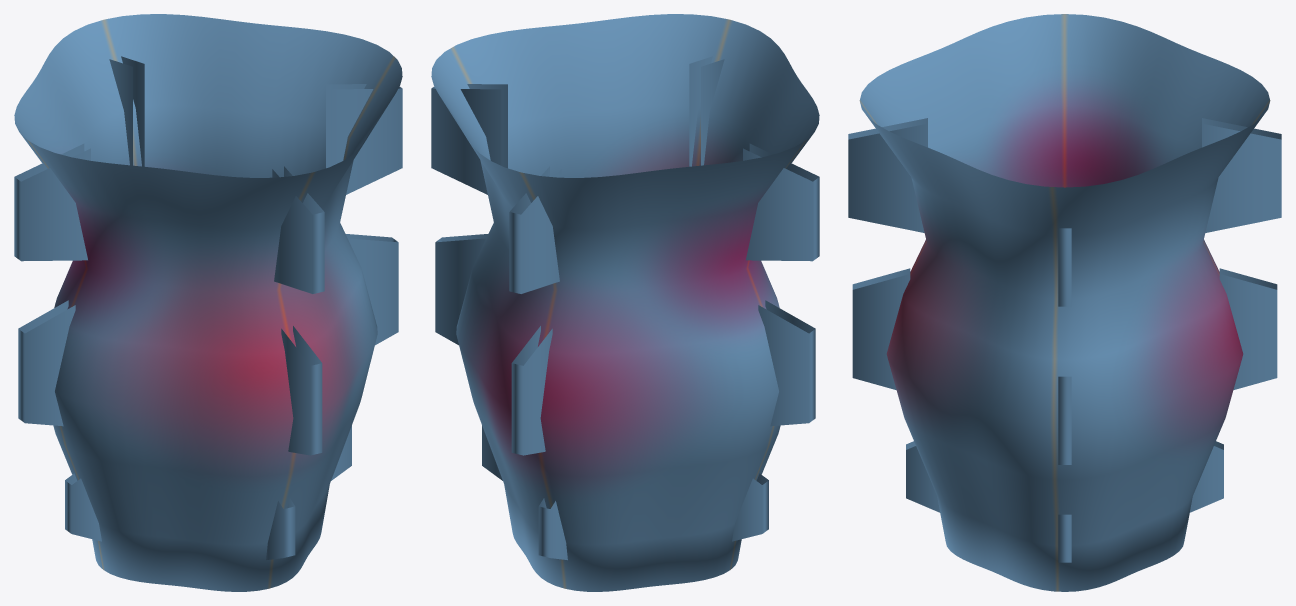
File: SongJunYao_ChujiZun_Master.glb
The picture shows the model from 3 angles, left to right: view 1: azimuth 30°, elevation 25°; view 2: azimuth 150°, elevation 25°; view 3: azimuth 270°, elevation 25°; orthographic projection.
Visible parts, largest first — view 1: SongJunYao_ChujiZun_Ultra; view 2: SongJunYao_ChujiZun_Ultra; view 3: SongJunYao_ChujiZun_Ultra.
Boxes of the visible parts, x1,y1,x2,y2 form: SongJunYao_ChujiZun_Ultra: [14, 14, 402, 591]; SongJunYao_ChujiZun_Ultra: [431, 14, 819, 591]; SongJunYao_ChujiZun_Ultra: [848, 14, 1281, 591].
Size of the model in its own units: 0.196 by 0.22 by 0.196.
1 material, 1 textured.
